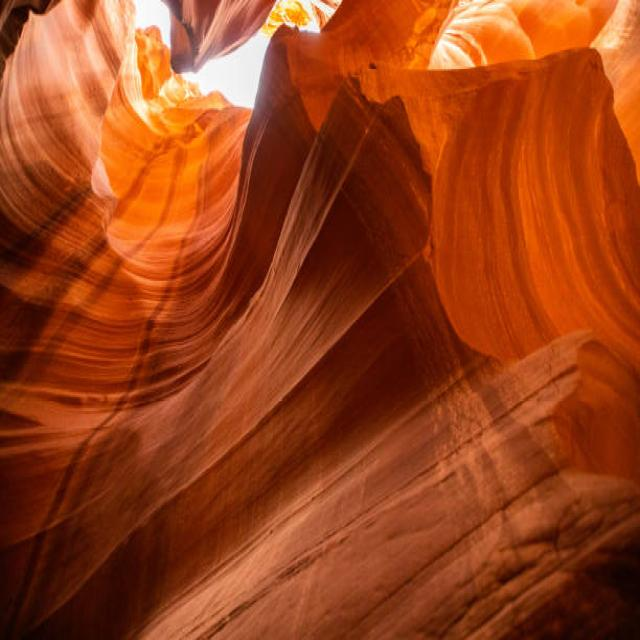Sedimentary: (1, 1, 636, 640)
